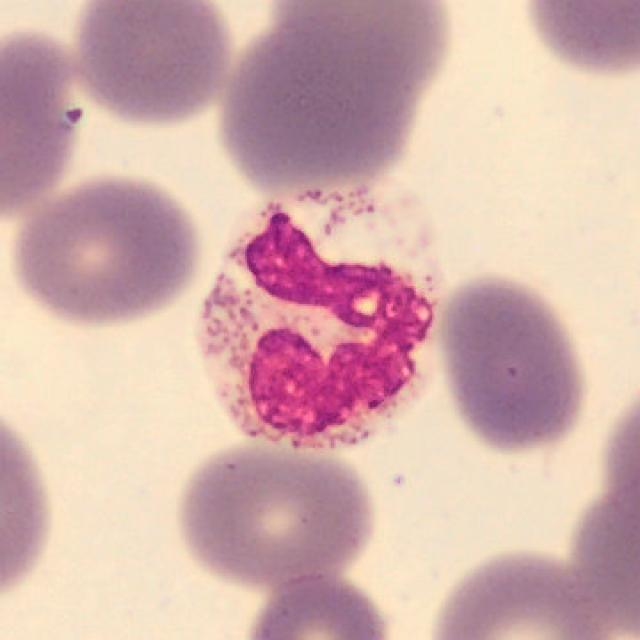Neutrofilo segmentado: (199, 180, 444, 453)
